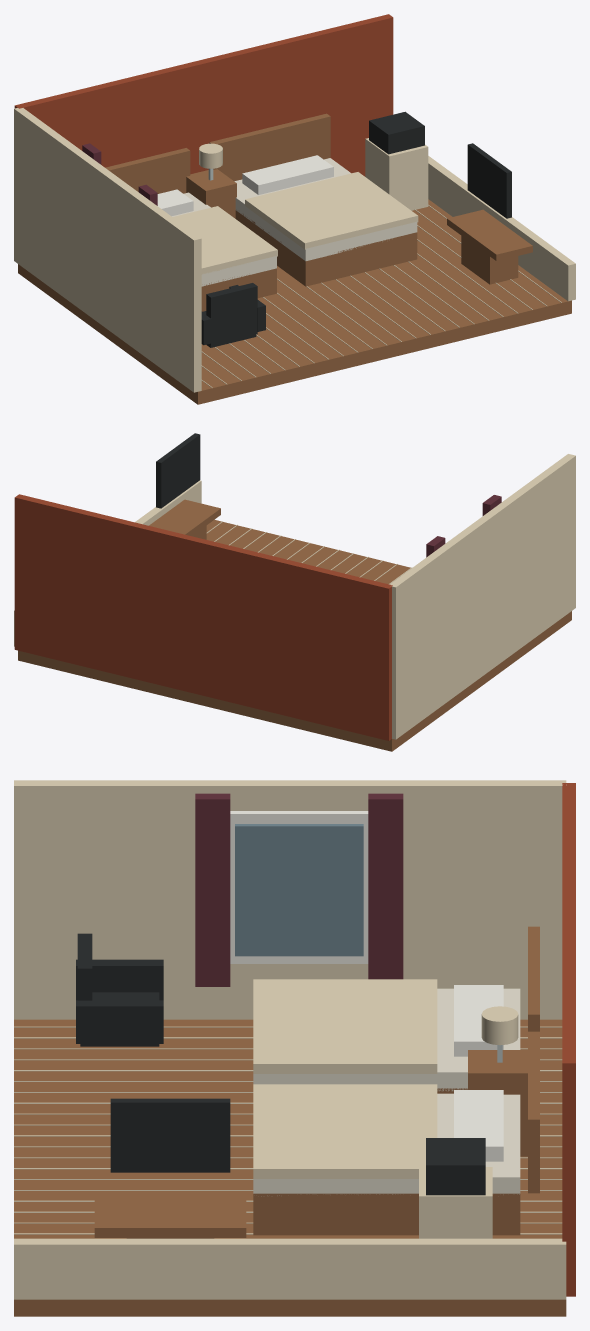
The model's file is double-room-v1.glb.
3 views of the same model, one above another, from view 1: azimuth 30°, elevation 25°; view 2: azimuth 150°, elevation 25°; view 3: azimuth 270°, elevation 25° (orthographic). The views are drawn at different scales.
Visible parts, largest first — view 1: orange accent wall, wood floor, left cream wall, quilt (×2), headboard (×2), bed base (×2), right cutaway wall, mattress (×2), equipment cabinet, pillow (×2), armchair back, desk (+5 smaller); view 2: orange accent wall, left cream wall, wood floor, television, desk, right cutaway wall; view 3: left cream wall, wood floor, quilt (×2), right cutaway wall, window glass, burgundy curtain (×2), mattress (×2), television, bed base, orange accent wall, armchair arm (×2), desk (+9 smaller).
Boxes of the visible parts, bbox=[...] form: orange accent wall: bbox=[14, 14, 393, 176]; wood floor: bbox=[18, 199, 571, 404]; left cream wall: bbox=[14, 108, 201, 392]; quilt (×2): bbox=[173, 172, 418, 274]; headboard (×2): bbox=[105, 113, 330, 193]; bed base (×2): bbox=[201, 210, 417, 311]; right cutaway wall: bbox=[428, 156, 575, 301]; mattress (×2): bbox=[172, 158, 417, 286]; equipment cabinet: bbox=[365, 138, 428, 210]; pillow (×2): bbox=[157, 155, 333, 216]; armchair back: bbox=[206, 283, 257, 345]; desk: bbox=[447, 209, 532, 260]; orange accent wall: bbox=[14, 494, 392, 740]; left cream wall: bbox=[390, 454, 575, 739]; wood floor: bbox=[18, 519, 571, 751]; television: bbox=[156, 433, 200, 508]; desk: bbox=[149, 499, 220, 536]; right cutaway wall: bbox=[14, 480, 201, 646]; left cream wall: bbox=[14, 780, 566, 1019]; wood floor: bbox=[14, 1019, 566, 1316]; quilt (×2): bbox=[253, 979, 437, 1178]; right cutaway wall: bbox=[14, 1238, 566, 1299]; window glass: bbox=[235, 824, 363, 956]; burgundy curtain (×2): bbox=[195, 793, 403, 986]; mattress (×2): bbox=[253, 988, 520, 1196]; television: bbox=[110, 1098, 230, 1172]; bed base: bbox=[253, 1193, 520, 1235]; orange accent wall: bbox=[562, 783, 575, 1296]; armchair arm (×2): bbox=[76, 959, 163, 1043]; desk: bbox=[94, 1200, 246, 1237].
Size of the model in its own units: 7.35 by 3.04 by 6.11.
